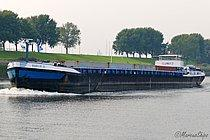Ship: (5, 52, 208, 97)
